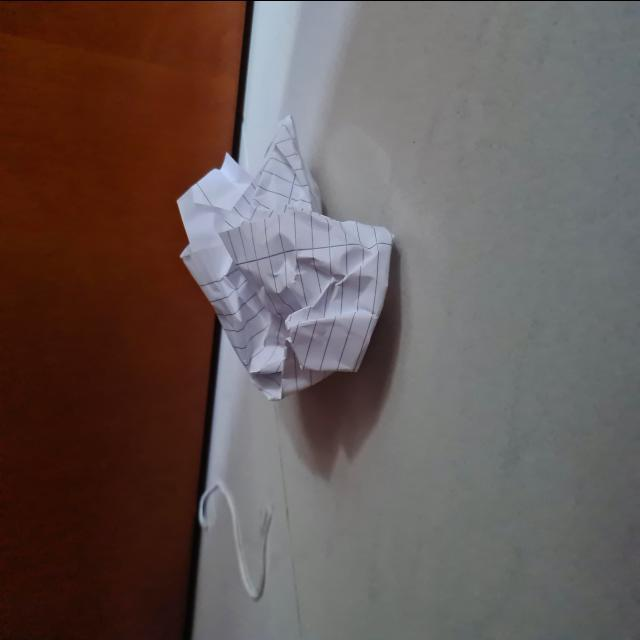Paper: (157, 88, 421, 425)
